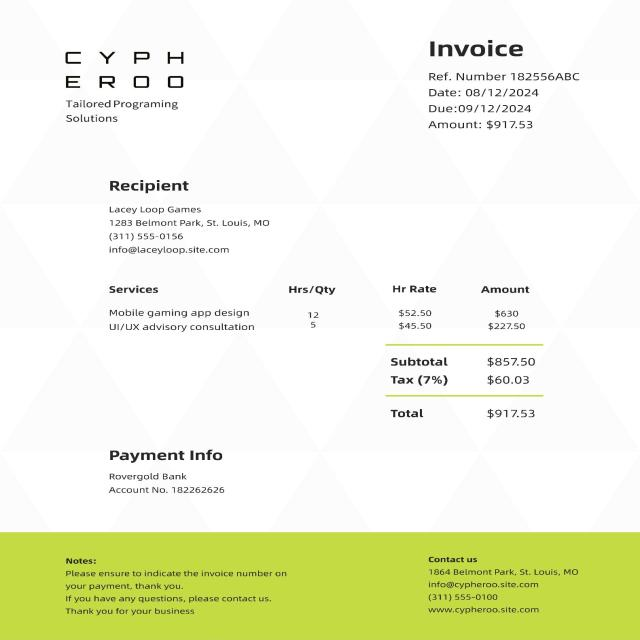paragraph: (42, 550, 297, 625), (102, 160, 275, 266), (422, 34, 591, 135), (414, 546, 596, 628), (376, 347, 560, 428), (45, 46, 206, 129), (86, 436, 248, 506)
table: (90, 272, 543, 337)
